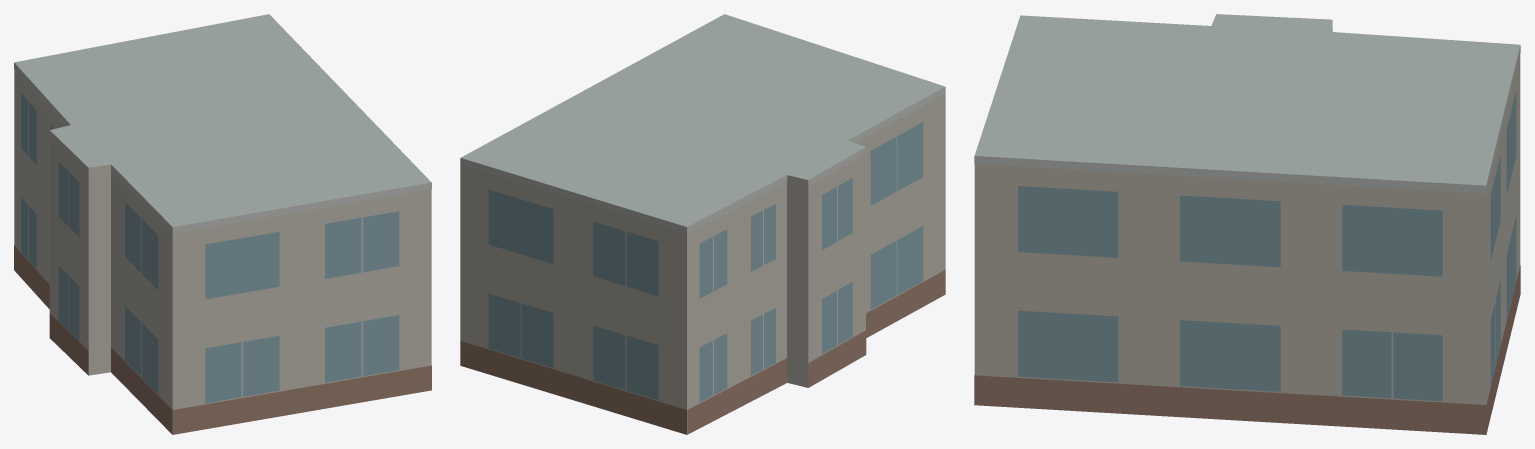
File: survey-upis-32926604.glb
The picture shows the model from 3 angles, left to right: view 1: azimuth 30°, elevation 25°; view 2: azimuth 150°, elevation 25°; view 3: azimuth 270°, elevation 25°; orthographic projection. The views are drawn at different scales.
Visible parts, largest first — view 1: survey-upis-32926604.tmp; view 2: survey-upis-32926604.tmp; view 3: survey-upis-32926604.tmp.
Boxes of the visible parts, x1,y1,x2,y2 form: survey-upis-32926604.tmp: (14,14,431,434); survey-upis-32926604.tmp: (460,14,945,434); survey-upis-32926604.tmp: (974,14,1520,434).
Bounding box in the file's own units: 11.23 × 7.6 × 15.1.
